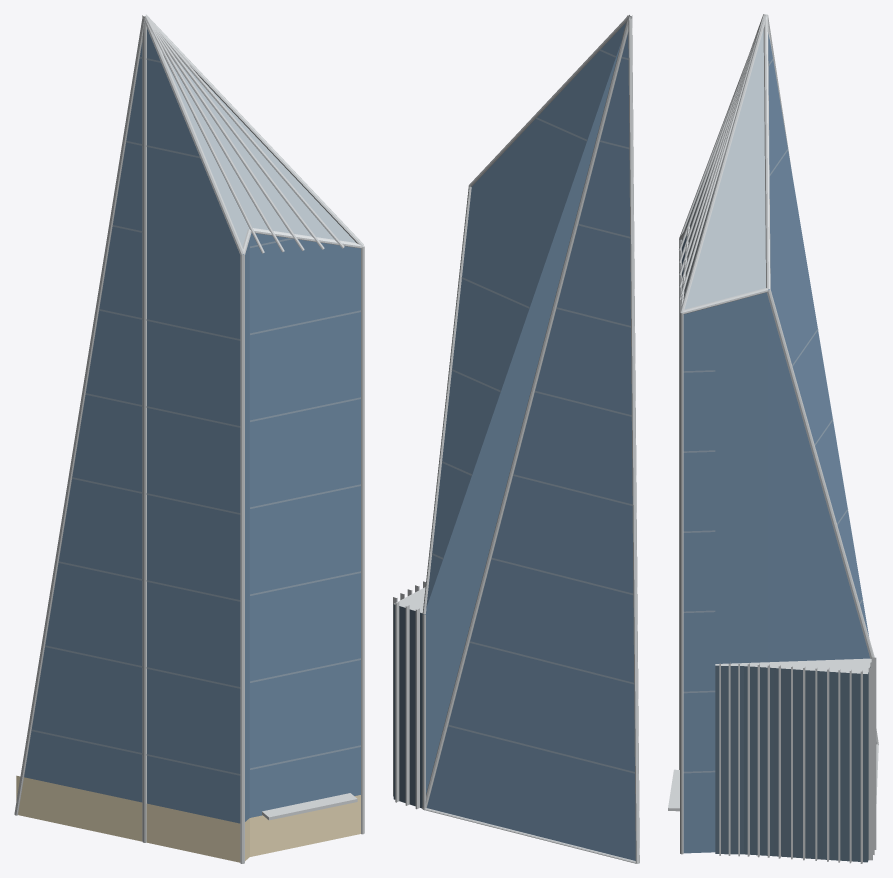
File: london-the-scalpel.glb
3 views of the same model, side by side, from view 1: azimuth 30°, elevation 25°; view 2: azimuth 150°, elevation 25°; view 3: azimuth 270°, elevation 25° (orthographic). The views are drawn at different scales.
Visible parts, largest first — view 1: The Scalpel; view 2: The Scalpel; view 3: The Scalpel.
Boxes of the visible parts, x1,y1,x2,y2 form: The Scalpel: (14, 14, 364, 863); The Scalpel: (393, 15, 639, 863); The Scalpel: (668, 14, 878, 863).
Size of the model in its own units: 63.91 by 190 by 47.73.
